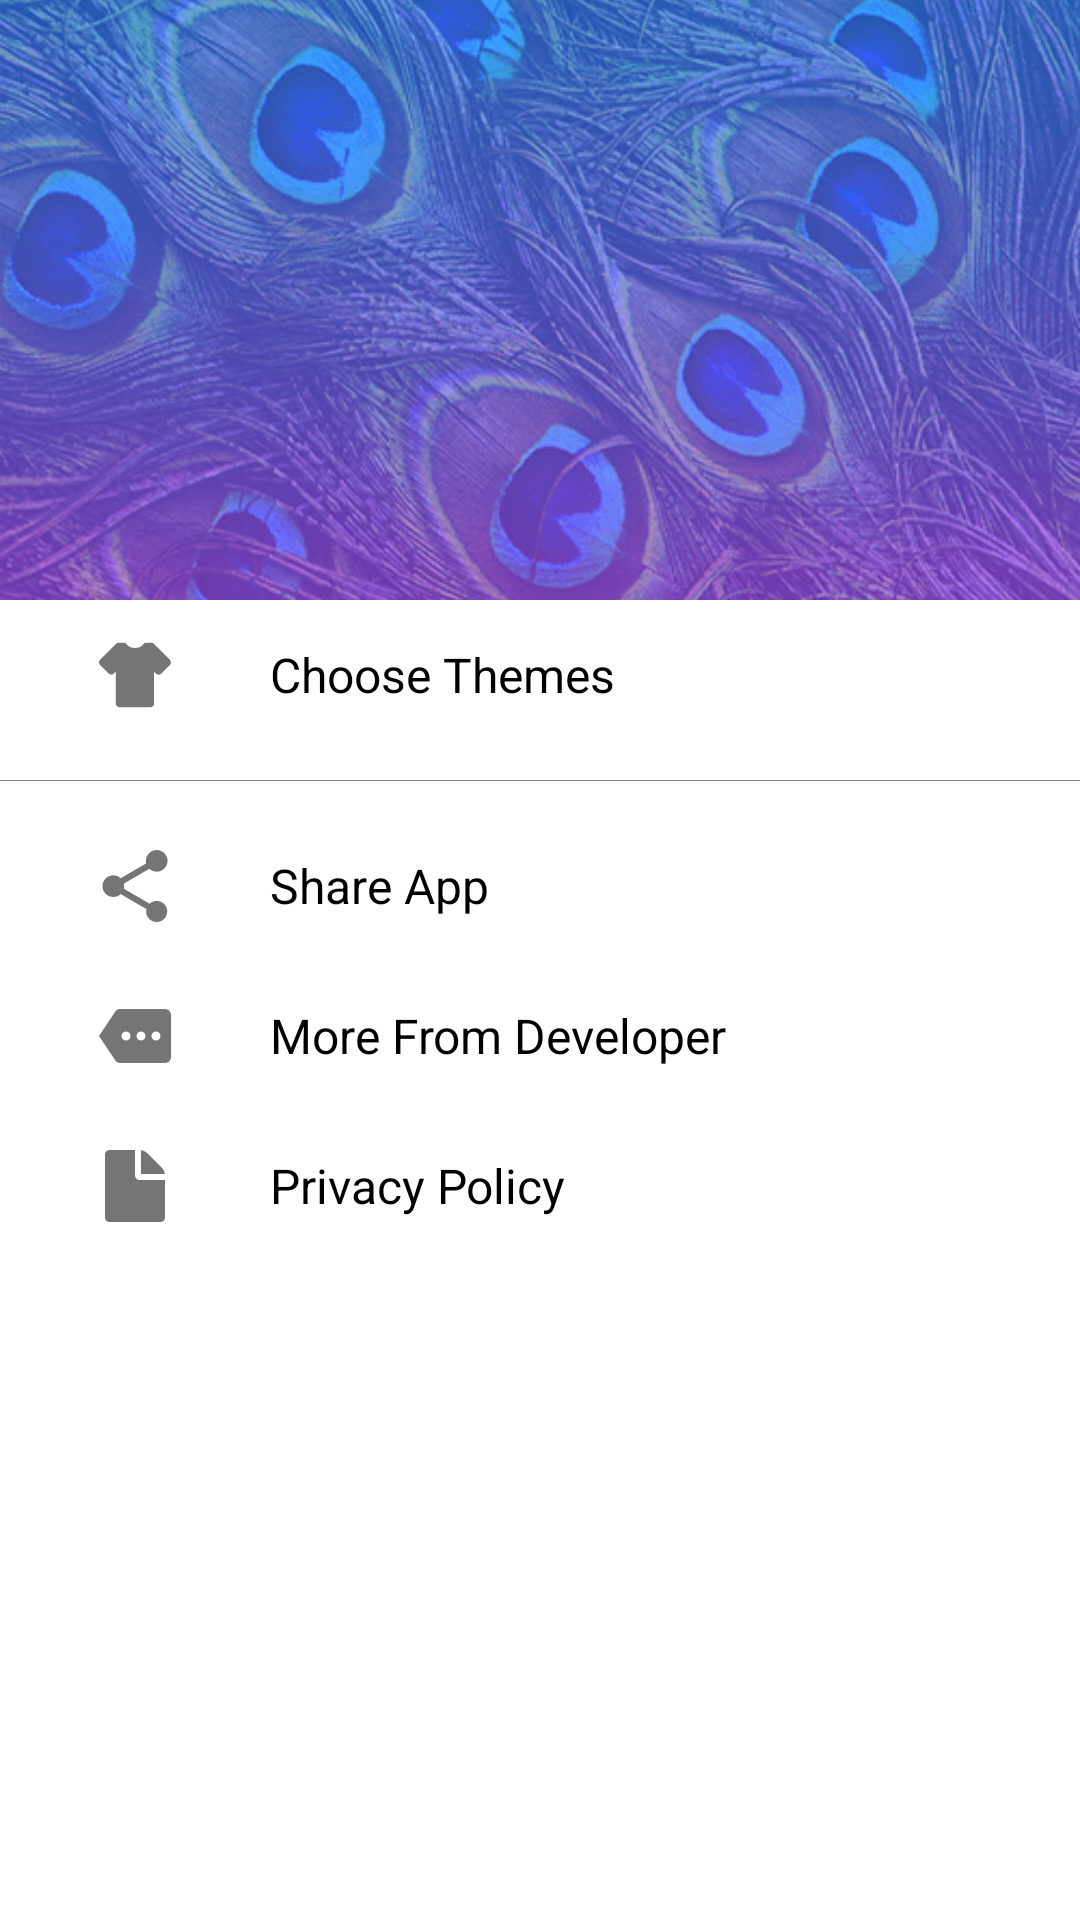

Where icons sit on this 1080x1920 app screen, as (x1, y1, x2, y2):
more app: (99, 1009, 171, 1063)
